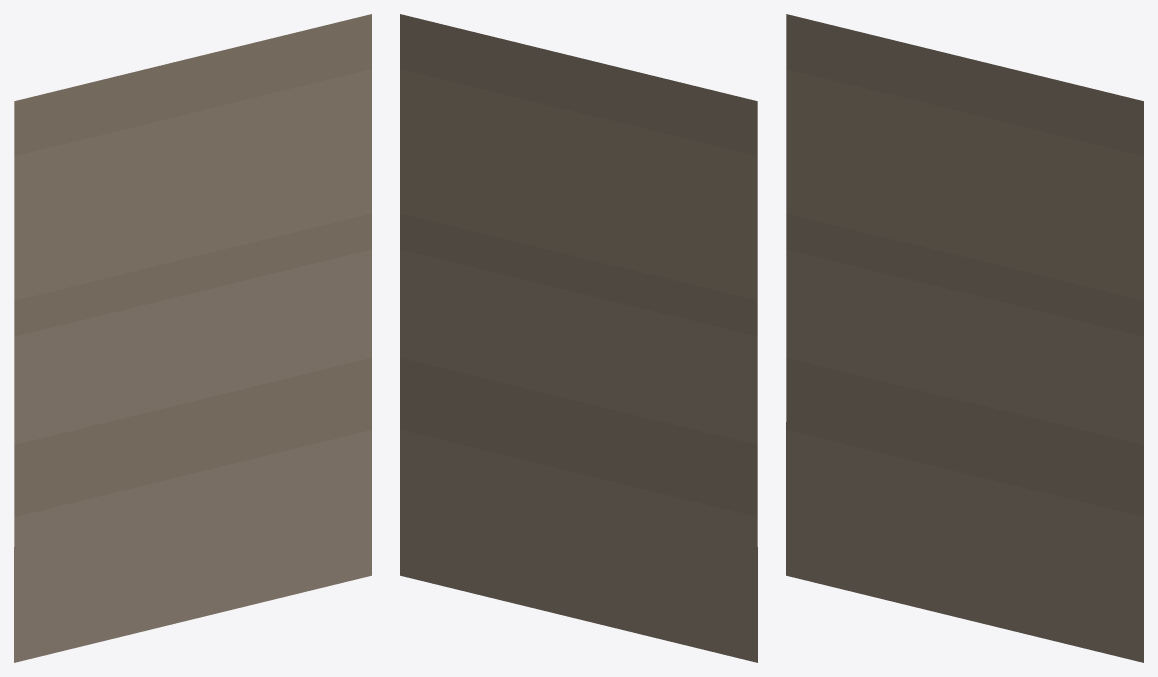
Rendered from kd_stage_135b75_4_40_bounded_piece_3.glb.
The picture shows the model from 3 angles, left to right: view 1: azimuth 30°, elevation 25°; view 2: azimuth 150°, elevation 25°; view 3: azimuth 330°, elevation 25°; orthographic projection.
Parts seen in each view (by area): view 1: kd_stage_135b75_4_40_bounded_piece_3; view 2: kd_stage_135b75_4_40_bounded_piece_3; view 3: kd_stage_135b75_4_40_bounded_piece_3.
Boxes of the visible parts, x1,y1,x2,y2 form: kd_stage_135b75_4_40_bounded_piece_3: [14, 14, 371, 662]; kd_stage_135b75_4_40_bounded_piece_3: [400, 14, 757, 662]; kd_stage_135b75_4_40_bounded_piece_3: [786, 14, 1143, 662].
Size of the model in its own units: 0.02 by 0.03 by 0.
Materials: 1 (1 with a texture image).
